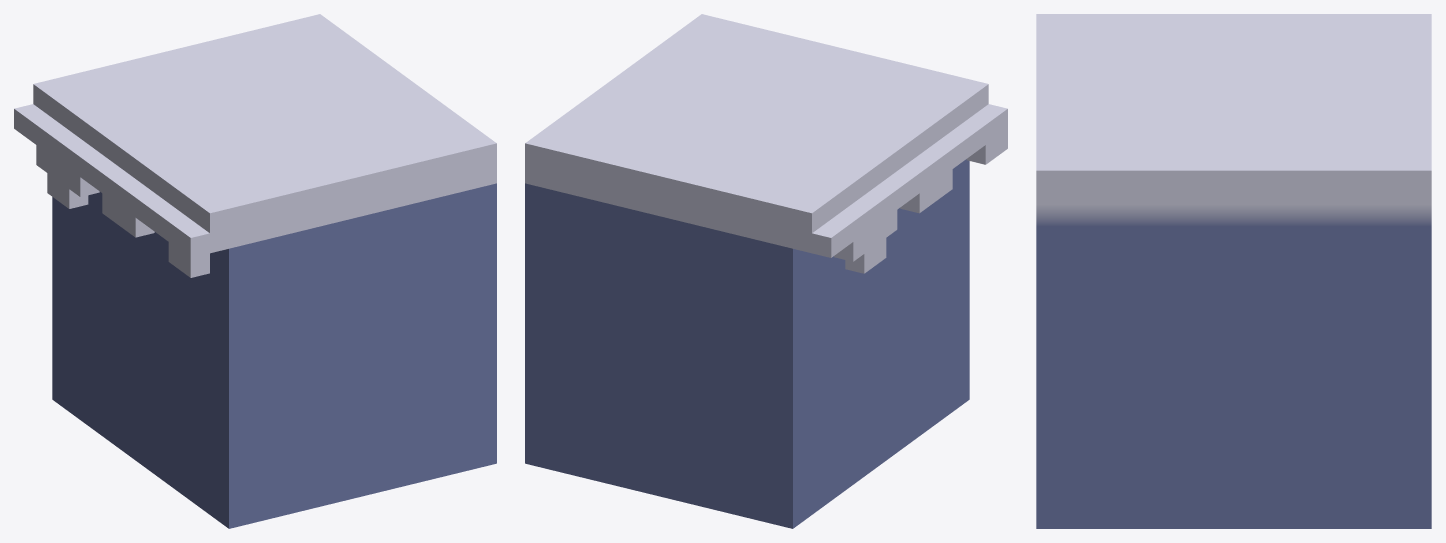
Rendered from SnowSide_1.fbx.
3 views of the same model, side by side, from view 1: azimuth 30°, elevation 25°; view 2: azimuth 150°, elevation 25°; view 3: azimuth 270°, elevation 25° (orthographic). The views are drawn at different scales.
Visible parts, largest first — view 1: SnowSide_1; view 2: SnowSide_1; view 3: SnowSide_1.
Boxes of the visible parts, <box> form: SnowSide_1: <box>14,14,496,528</box>; SnowSide_1: <box>525,14,1007,528</box>; SnowSide_1: <box>1036,14,1431,528</box>.
Size of the model in its own units: 16 by 16 by 16.
Materials: 1 (1 with a texture image).
